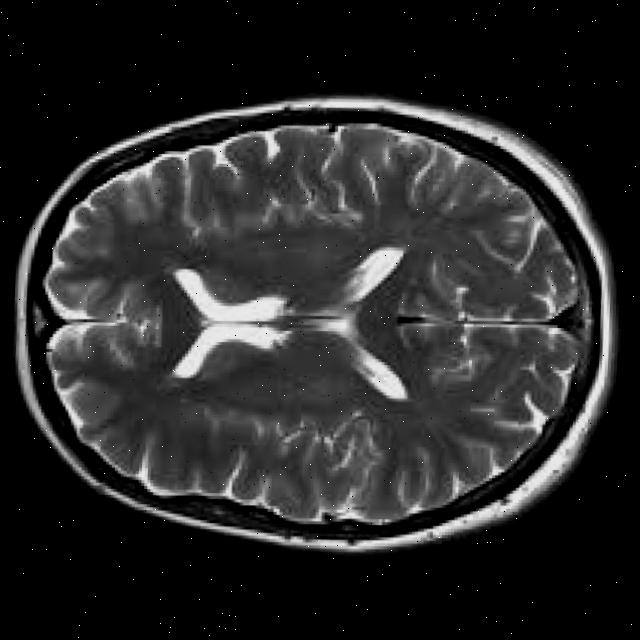NoTumor: (0, 73, 636, 576)
